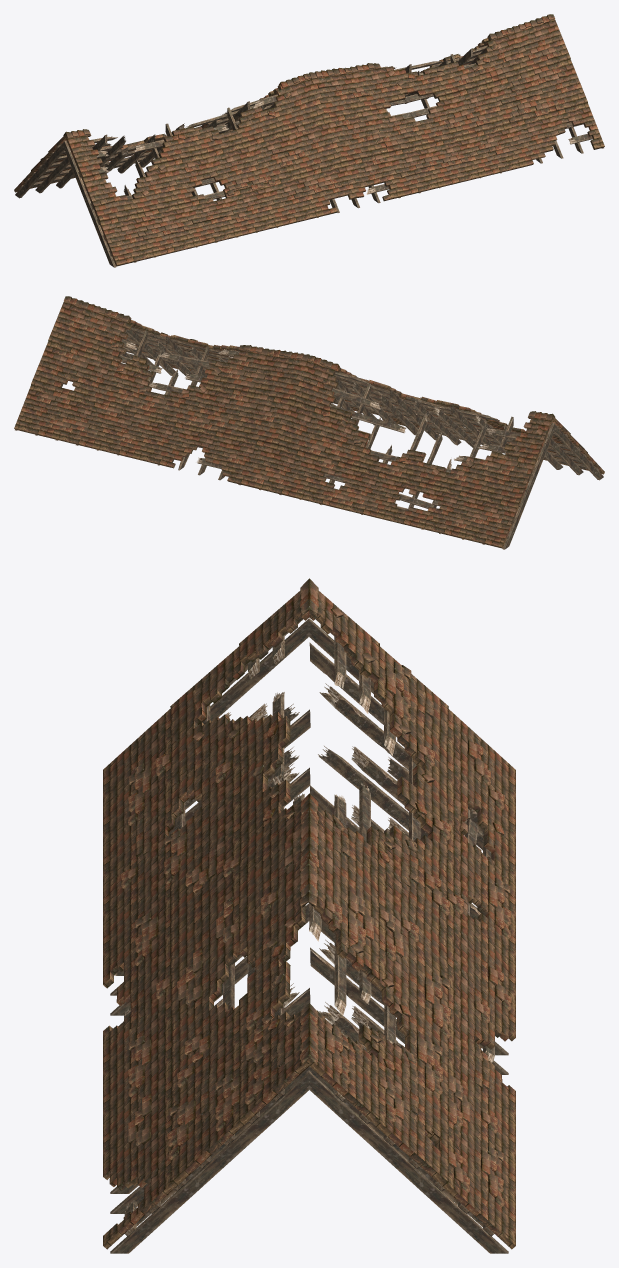
The picture shows the model from 3 angles, top to bottom: view 1: azimuth 30°, elevation 25°; view 2: azimuth 150°, elevation 25°; view 3: azimuth 270°, elevation 25°; orthographic projection. The views are drawn at different scales.
Parts seen in each view (by area): view 1: SM_SaradominTemple_Roof_Dmg_01_v1_LOD0; view 2: SM_SaradominTemple_Roof_Dmg_01_v1_LOD0; view 3: SM_SaradominTemple_Roof_Dmg_01_v1_LOD0.
Part boxes in pixels (box(x1,y1,x2,y2)): SM_SaradominTemple_Roof_Dmg_01_v1_LOD0: box(14, 14, 604, 267); SM_SaradominTemple_Roof_Dmg_01_v1_LOD0: box(14, 296, 604, 549); SM_SaradominTemple_Roof_Dmg_01_v1_LOD0: box(103, 578, 515, 1253).
Size of the model in its own units: 48.21 by 9.36 by 17.6.
Materials: 2 (2 with a texture image).
